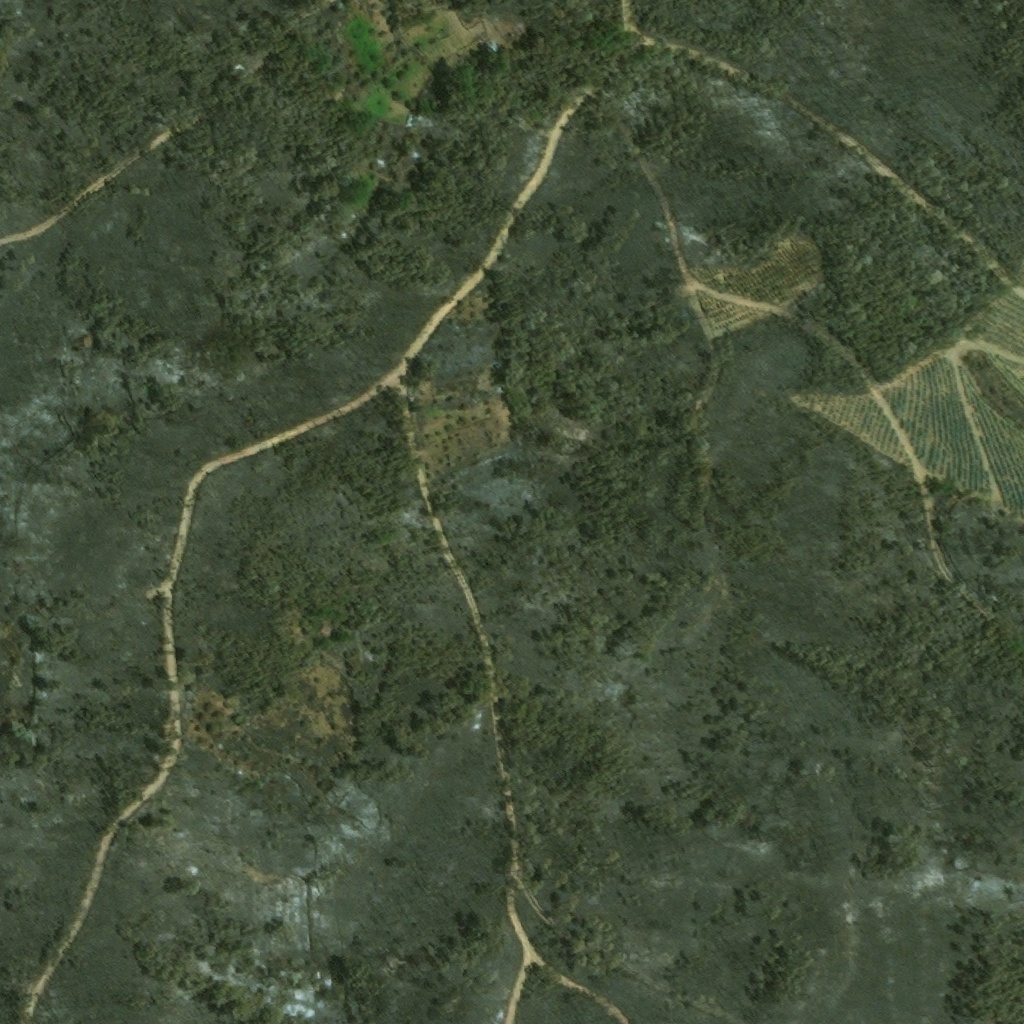0 no-damage: (405, 115, 417, 129), (486, 43, 496, 58)
